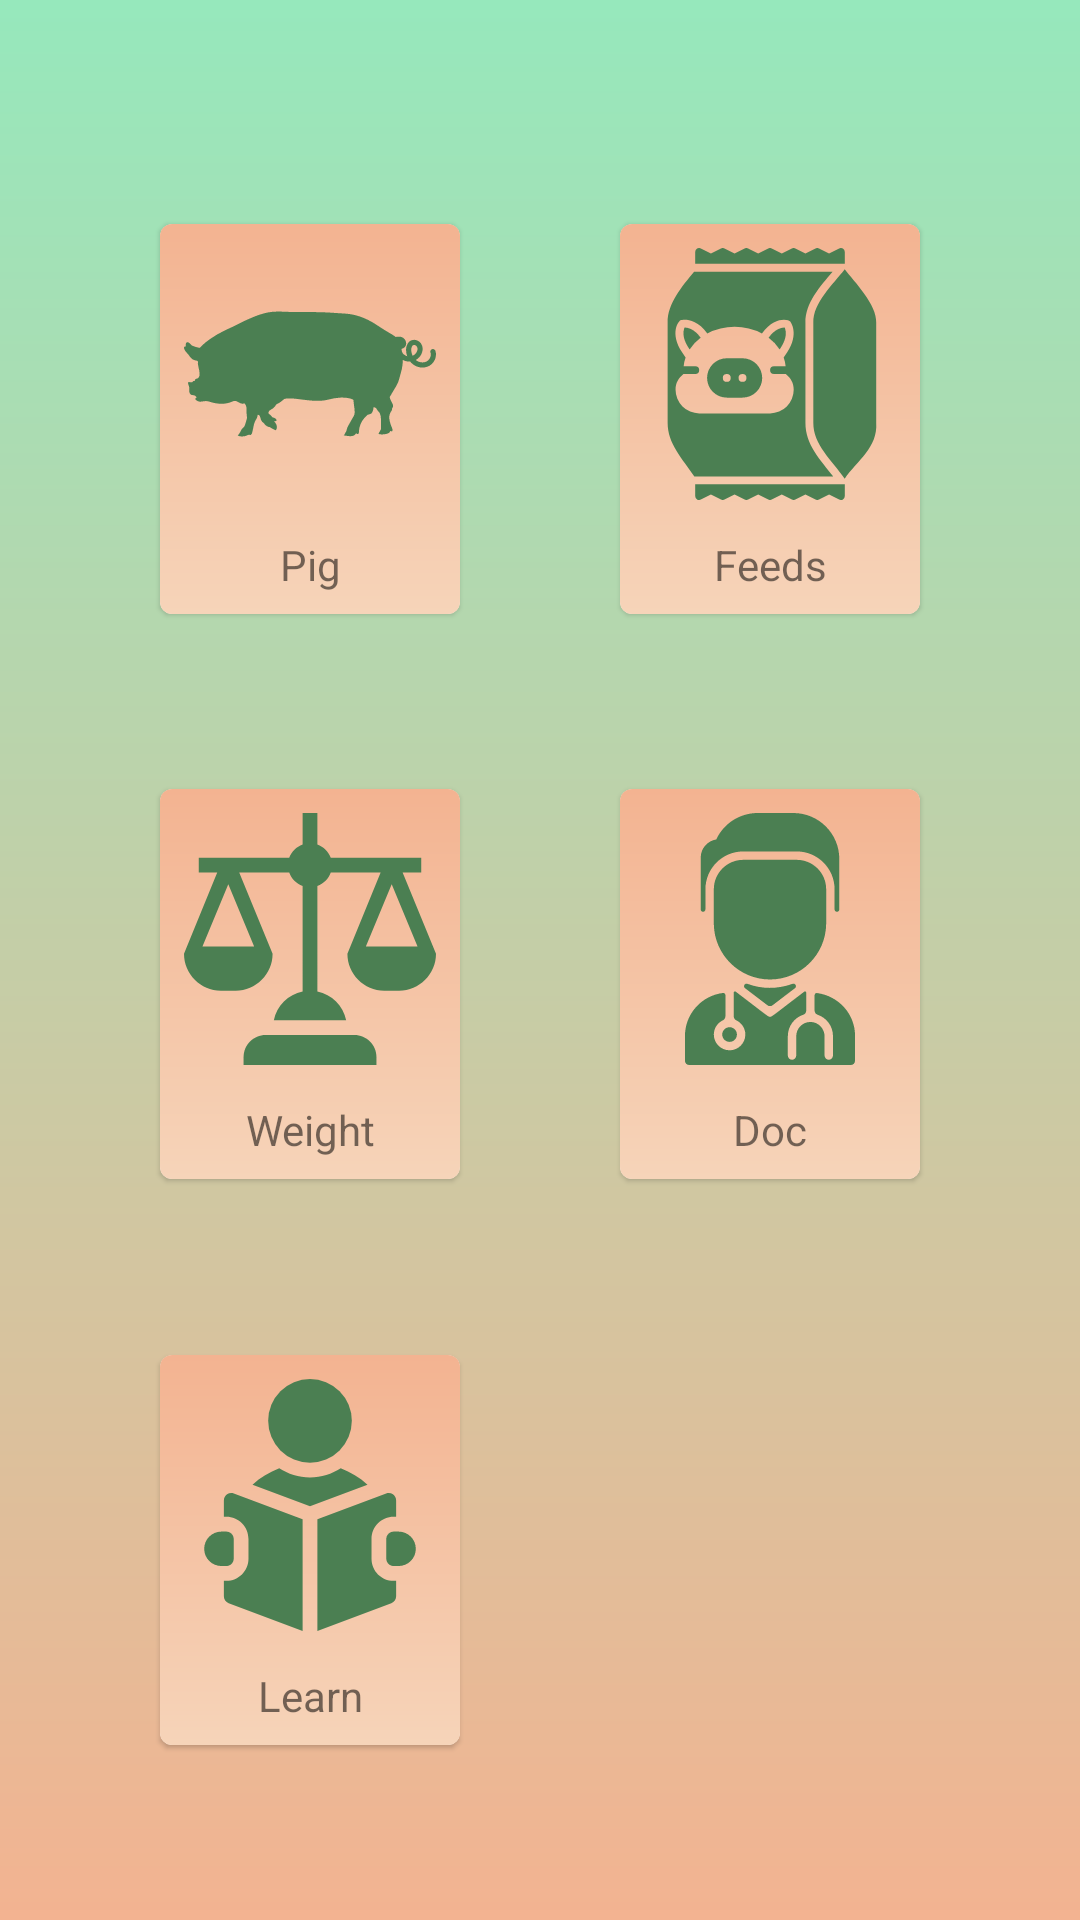

Point at icon controls on the screen. Image size 1080*1920, points as (x,y).
balance: (310,939)
pig side view: (310,374)
